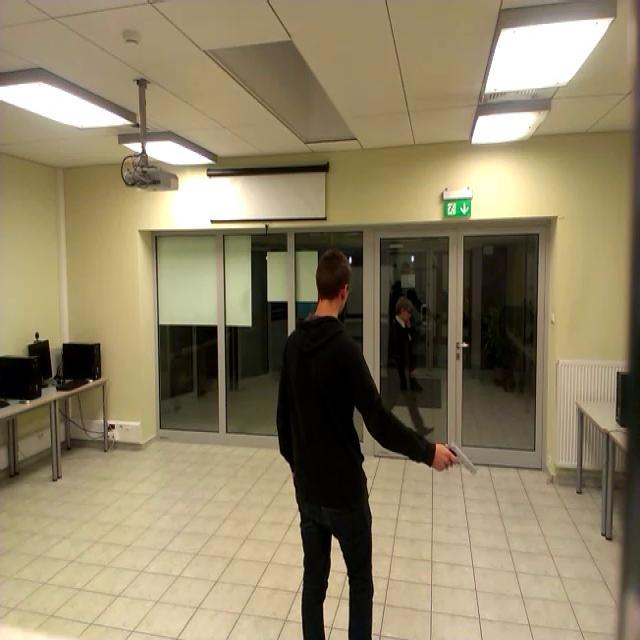Gun: (442, 435, 486, 487)
